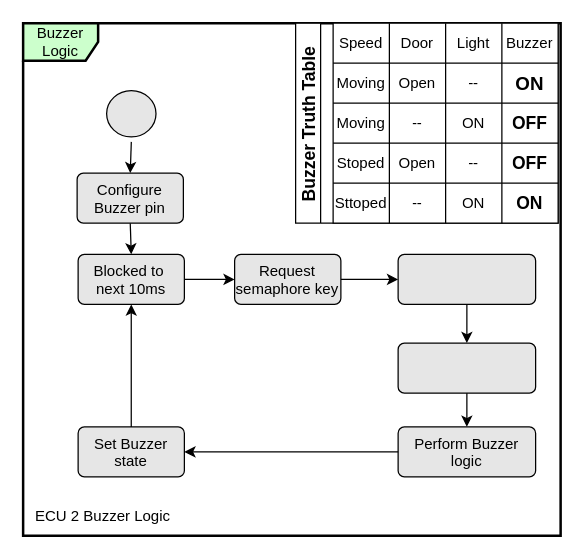
Some shapes in this 583 by 558 pixel diagram are drawn without their labels. The shapes that lost their labels are listed below. From the top down, each one's centre as x and y in pixels, then its label:
At pixel 130 113: "start".
At pixel 466 278: "Read Speed, Door, Light Values".
At pixel 466 367: "Return semaphore key".
